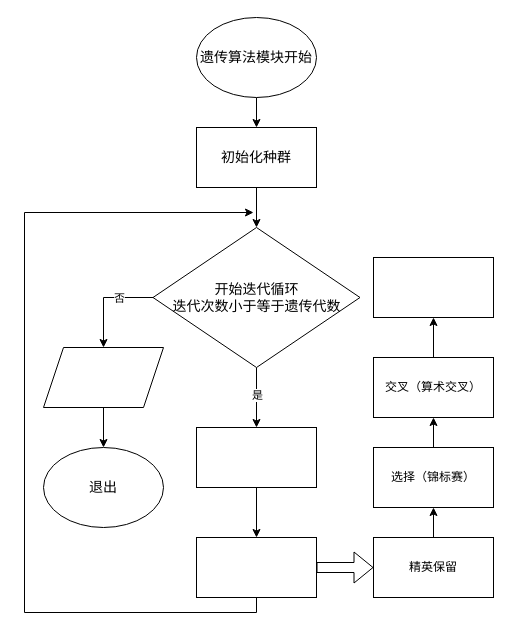
Image size: 511x638. Some labels were removed from this diagram. The centre of each missing label's shape, as x and y in pixels:
变异（高斯变异）: (x=433, y=287)
生成新一代种群: (x=256, y=567)
计算种群中每个个体的适应度: (x=256, y=457)
输出最终的全局 最优解和适应度: (x=103, y=377)
